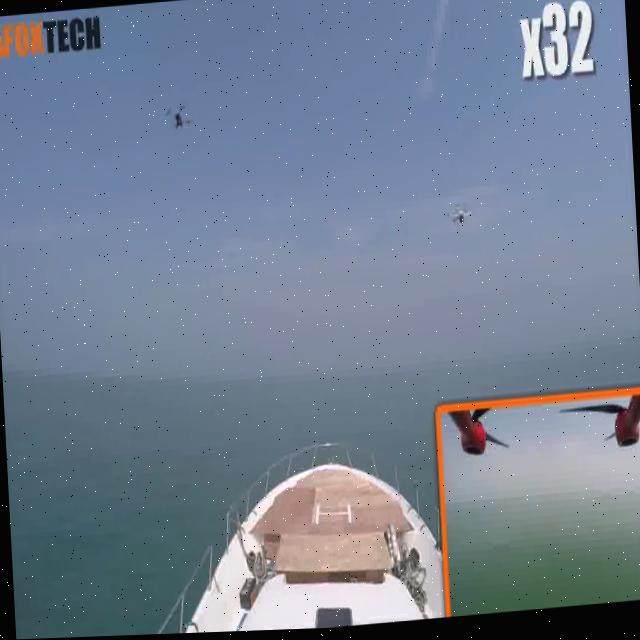drone: (160, 93, 203, 141), (437, 199, 477, 241)
